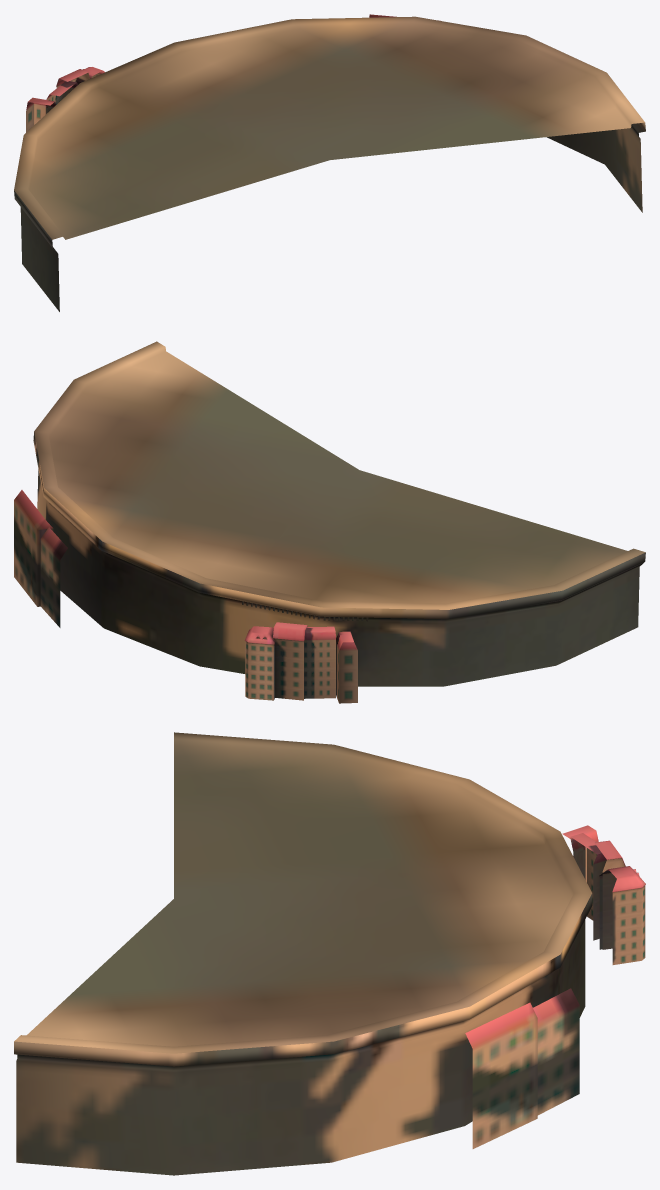
The model's file is sc_xcb_yj07_01_um.fbx.
The picture shows the model from 3 angles, top to bottom: view 1: azimuth 30°, elevation 25°; view 2: azimuth 150°, elevation 25°; view 3: azimuth 270°, elevation 25°; orthographic projection. The views are drawn at different scales.
Visible parts, largest first — view 1: sc_xcb_yj07_01; view 2: sc_xcb_yj07_01; view 3: sc_xcb_yj07_01.
Part boxes in pixels (bbox=[...]): sc_xcb_yj07_01: bbox=[14, 14, 645, 311]; sc_xcb_yj07_01: bbox=[14, 341, 645, 703]; sc_xcb_yj07_01: bbox=[14, 732, 645, 1175].
Size of the model in its own units: 120440 by 22053 by 88192.
